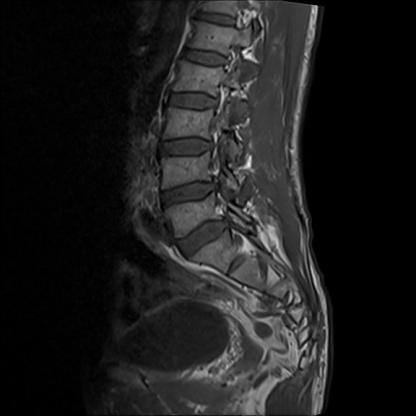Disc Bulgerotation: (170, 219, 241, 257)
